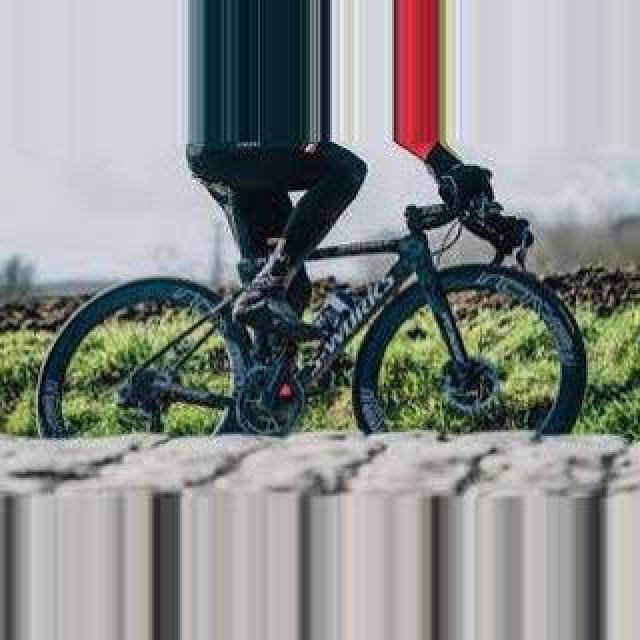Person: (37, 161, 589, 453)
